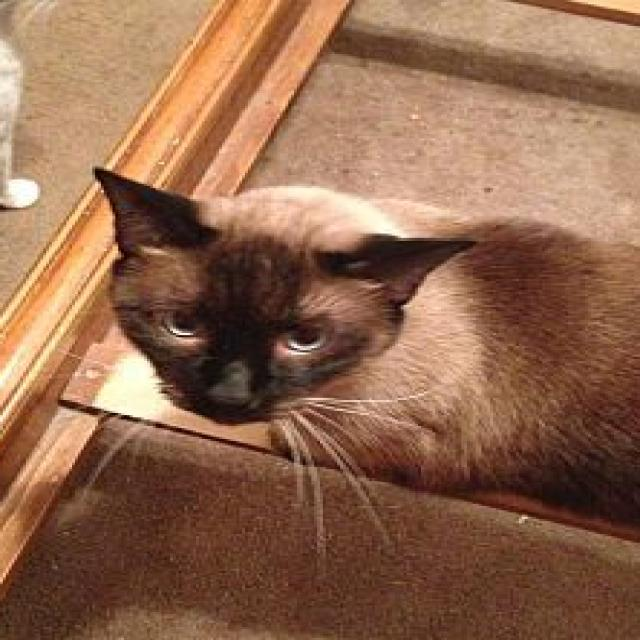Siamese: (83, 153, 640, 542)
